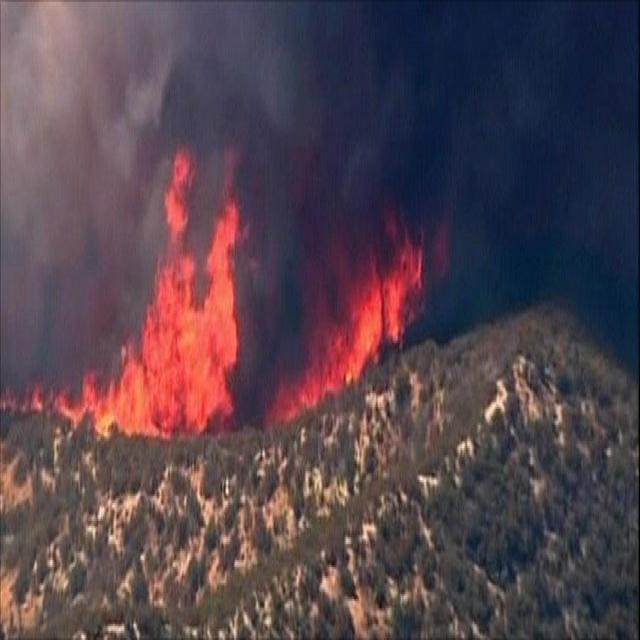Fire: (1, 151, 244, 447), (258, 191, 429, 438)
Smoke: (0, 0, 315, 405), (302, 0, 640, 286)
